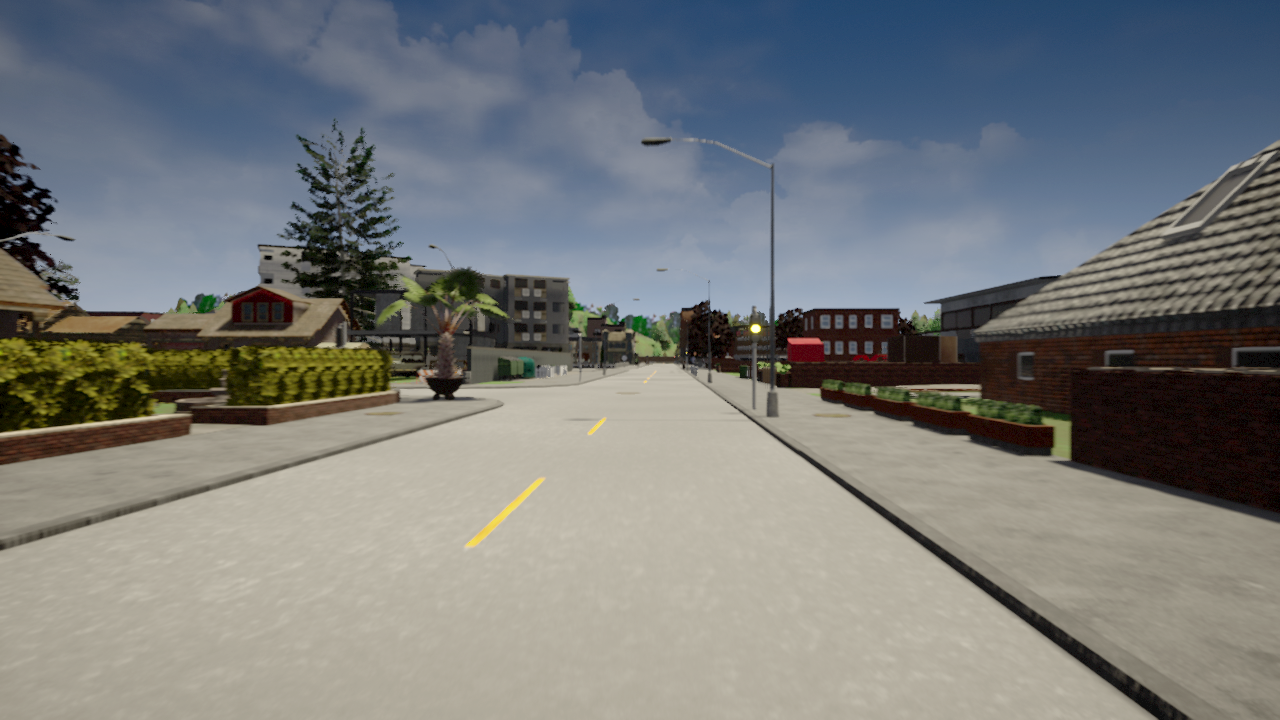yellow: (749, 312, 763, 343)
